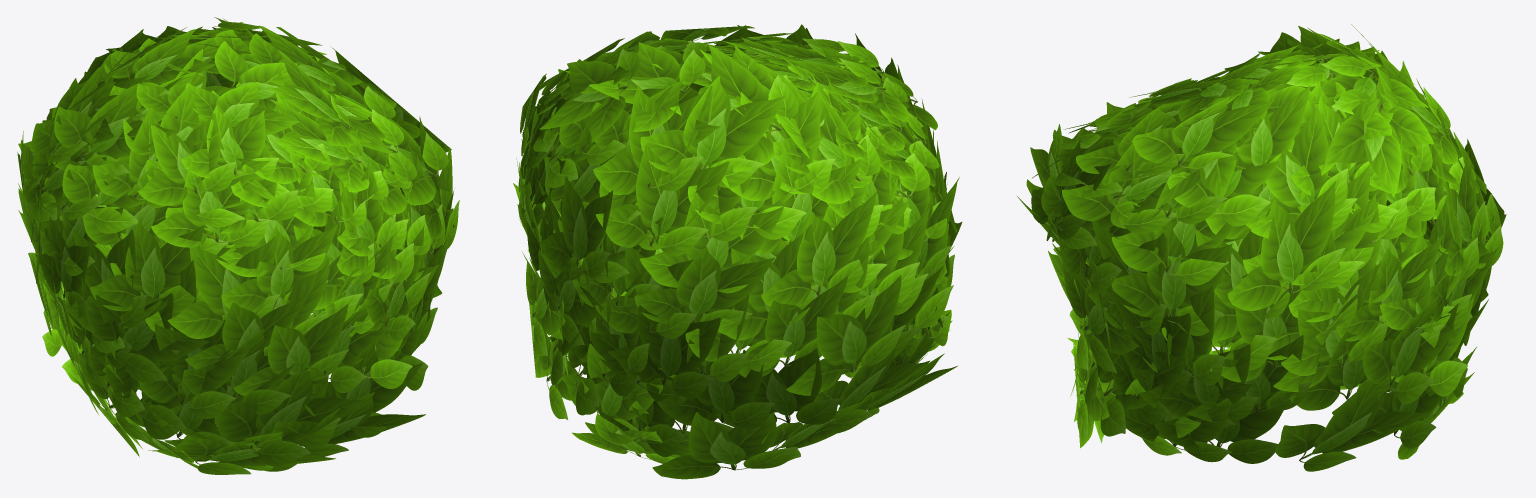
The model's file is bush 03.fbx.
3 views of the same model, side by side, from view 1: azimuth 30°, elevation 25°; view 2: azimuth 150°, elevation 25°; view 3: azimuth 270°, elevation 25° (orthographic). The views are drawn at different scales.
Visible parts, largest first — view 1: polySurface325; view 2: polySurface325; view 3: polySurface325.
Boxes of the visible parts, x1=… form: polySurface325: x1=17, y1=17, x2=459, y2=474; polySurface325: x1=513, y1=24, x2=962, y2=479; polySurface325: x1=1017, y1=24, x2=1506, y2=471.
Bounding box in the file's own units: 5.76 × 5.2 × 6.05.
